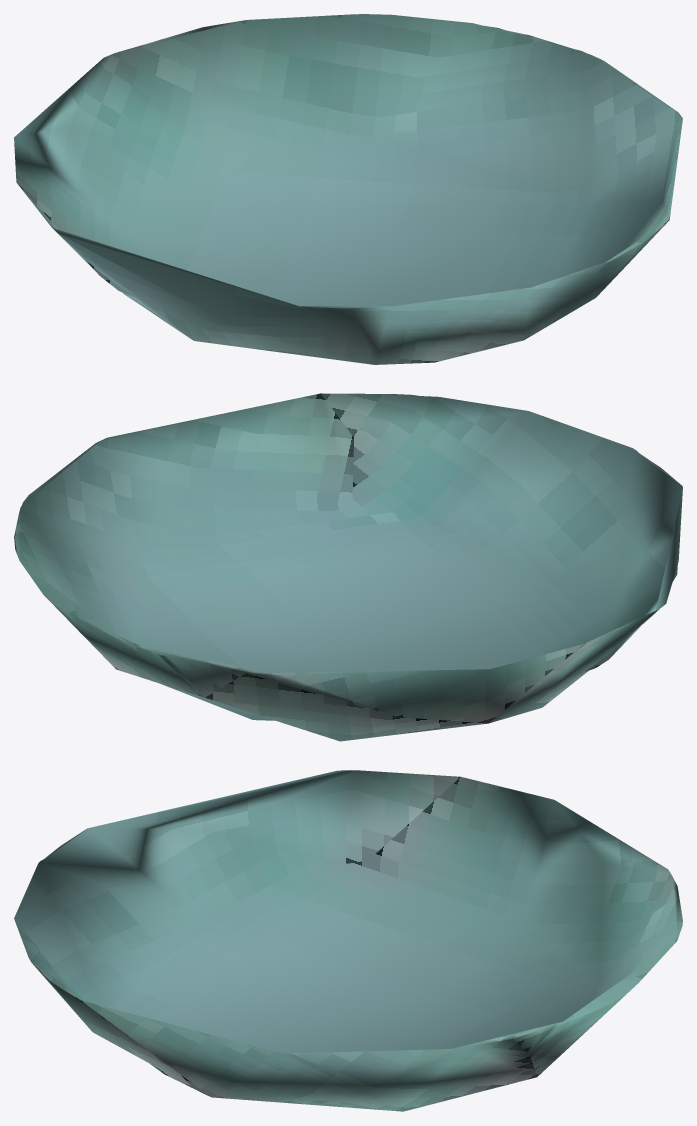
The model's file is Ecoforms_Plant_Container_S14Turquoise-low.glb.
The picture shows the model from 3 angles, top to bottom: view 1: azimuth 30°, elevation 25°; view 2: azimuth 150°, elevation 25°; view 3: azimuth 270°, elevation 25°; orthographic projection. The views are drawn at different scales.
Visible parts, largest first — view 1: Ecoforms_Plant_Container_S14Turquoise; view 2: Ecoforms_Plant_Container_S14Turquoise; view 3: Ecoforms_Plant_Container_S14Turquoise.
Part boxes in pixels (bbox=[...]): Ecoforms_Plant_Container_S14Turquoise: bbox=[14, 14, 682, 364]; Ecoforms_Plant_Container_S14Turquoise: bbox=[14, 393, 682, 741]; Ecoforms_Plant_Container_S14Turquoise: bbox=[14, 770, 682, 1111].
Size of the model in its own units: 0.1463 by 0.0262 by 0.1472.
1 material, 1 textured.
